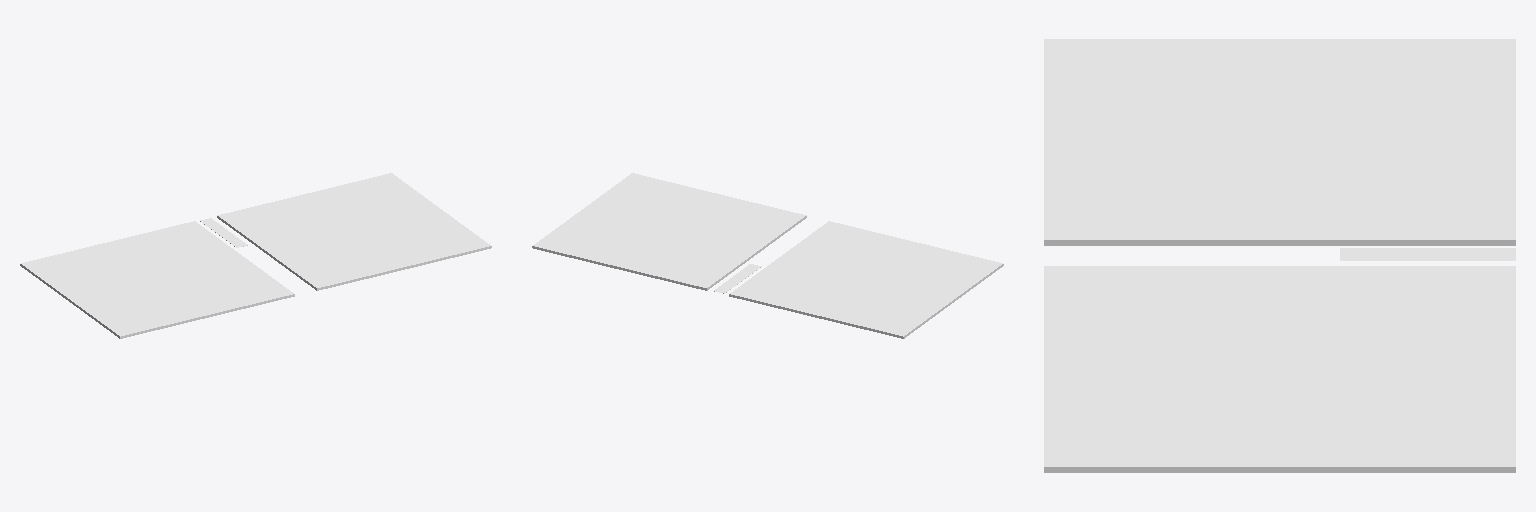
URDF robot description (ground_with_bridge):
<?xml version="1.0" ?>
<robot name="ground_with_bridge">
  <link name="base_link">
    <visual>
      <origin xyz="0 0 0" rpy="0 0 0" />
      <geometry>
        <mesh filename="package://hpp-rbprm-corba/meshes/ground_with_bridge.stl"/>
      </geometry>
      <material name="white">
        <color rgba="1 1 1 1"/>
      </material>
    </visual>
    <collision>
      <origin xyz="0 0 0" rpy="0 0 0" />
      <geometry>
        <mesh filename="package://hpp-rbprm-corba/meshes/ground_with_bridge.stl"/>
      </geometry>
    </collision>
  </link>
</robot>

--- What the picture shows (computed from the rendered views, not written in the file) ---
The picture shows the robot from 3 angles, left to right: view 1: azimuth 30°, elevation 25°; view 2: azimuth 150°, elevation 25°; view 3: azimuth 270°, elevation 25°; orthographic projection.
Model ground_with_bridge with 1 links and 0 joints (none), rooted at base_link, posed all joints at 0.
Visible links, largest first — view 1: base_link; view 2: base_link; view 3: base_link.
Link boxes in pixels (left/top/right/bottom): base_link: left=20, top=173, right=491, bottom=338; base_link: left=532, top=173, right=1003, bottom=338; base_link: left=1044, top=39, right=1515, bottom=472.
Size in the robot's own frame: 14.65 by 6.82 by 0.0948 metres.
Meshes: 1 distinct files referenced, 1 mesh visuals loaded (1 binary STL).
